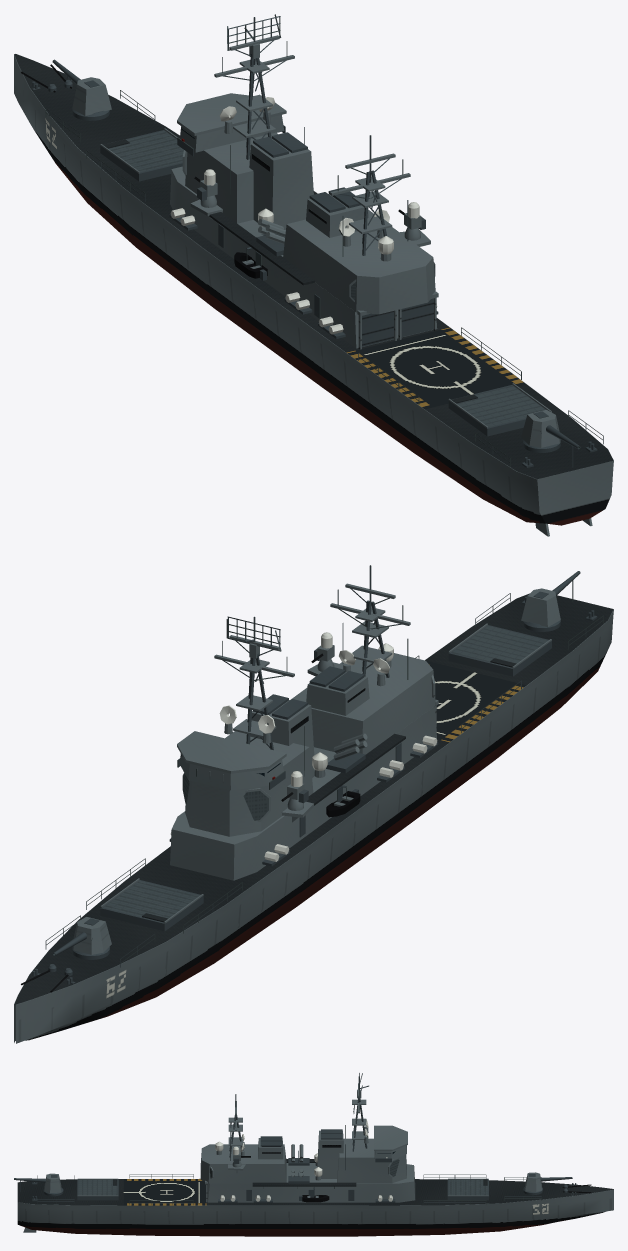
Rendered from missile_cruiser.glb.
3 views of the same model, one above another, from view 1: azimuth 30°, elevation 25°; view 2: azimuth 150°, elevation 25°; view 3: azimuth 270°, elevation 25° (orthographic). The views are drawn at different scales.
Parts seen in each view (by area): view 1: hull, deck, superstructure, launchers, stacks, masts, fittings, radars, hangar, defense, forward_gun, aft_gun; view 2: hull, superstructure, deck, launchers, masts, stacks, radars, fittings, defense, aft_gun, forward_gun; view 3: hull, superstructure, deck, launchers, stacks, fittings, masts, radars, aft_gun, forward_gun, defense.
Boxes of the visible parts, left/top/right/bottom form: hull: left=14, top=54, right=613, bottom=536; deck: left=14, top=54, right=613, bottom=479; superstructure: left=170, top=115, right=437, bottom=348; launchers: left=100, top=128, right=551, bottom=436; stacks: left=249, top=132, right=368, bottom=237; masts: left=214, top=17, right=410, bottom=255; fittings: left=21, top=64, right=603, bottom=467; radars: left=182, top=14, right=435, bottom=301; hangar: left=357, top=291, right=438, bottom=349; defense: left=190, top=169, right=430, bottom=246; forward_gun: left=52, top=59, right=111, bottom=120; aft_gun: left=521, top=410, right=580, bottom=452; hull: left=14, top=609, right=613, bottom=1043; superstructure: left=170, top=653, right=437, bottom=880; deck: left=14, top=593, right=613, bottom=1004; launchers: left=100, top=623, right=551, bottom=931; masts: left=214, top=565, right=410, bottom=750; stacks: left=250, top=666, right=369, bottom=777; radars: left=182, top=616, right=435, bottom=821; fittings: left=21, top=580, right=603, bottom=992; defense: left=281, top=632, right=338, bottom=822; aft_gun: left=521, top=571, right=580, bottom=631; forward_gun: left=52, top=917, right=111, bottom=959; hull: left=17, top=1125, right=613, bottom=1236; superstructure: left=200, top=1138, right=415, bottom=1202; deck: left=17, top=1179, right=613, bottom=1205; launchers: left=77, top=1144, right=488, bottom=1200; stacks: left=258, top=1129, right=343, bottom=1178; fittings: left=20, top=1157, right=591, bottom=1204; masts: left=228, top=1076, right=367, bottom=1157; radars: left=210, top=1073, right=399, bottom=1180; aft_gun: left=14, top=1173, right=63, bottom=1196; forward_gun: left=523, top=1172, right=572, bottom=1195; defense: left=228, top=1146, right=250, bottom=1172.
Bounding box in the file's own units: 4.86 × 11.86 × 42.26.
1 material, 1 textured.
